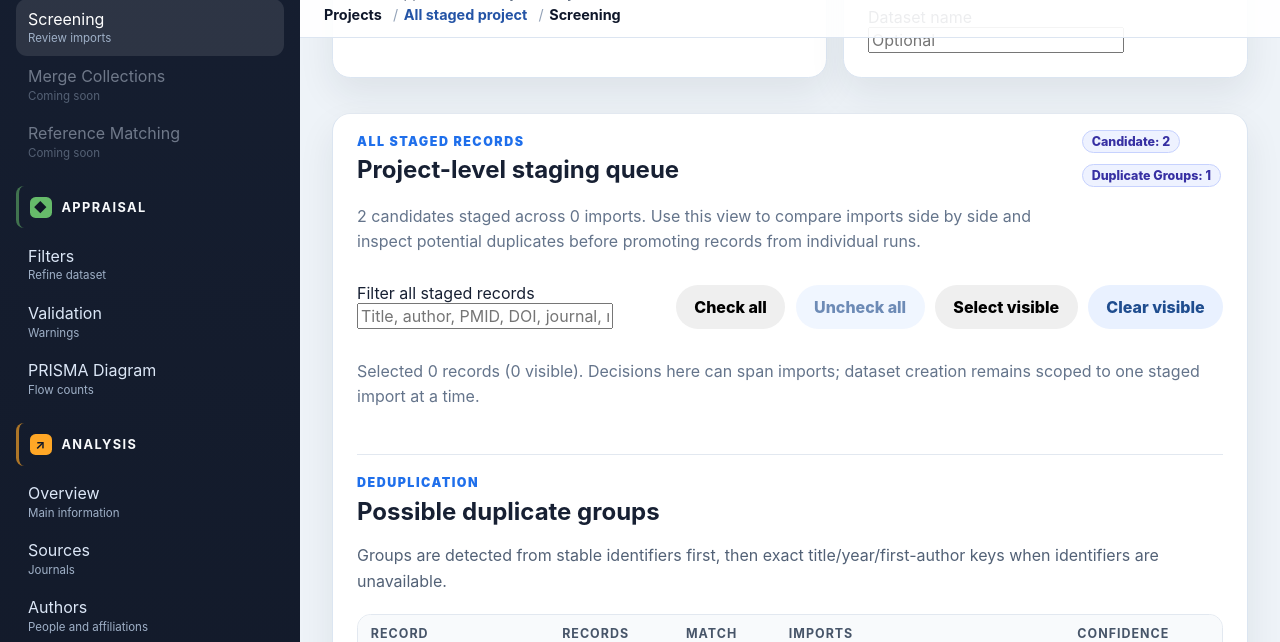
remote source import › shows all staged records together with duplicate groups
(page scrolled)
Expected: the heading "Project-level staging queue" is shown, 357,155 -> 679,184
Click the button "Select visible": (1006, 308) 935,286 -> 1078,330
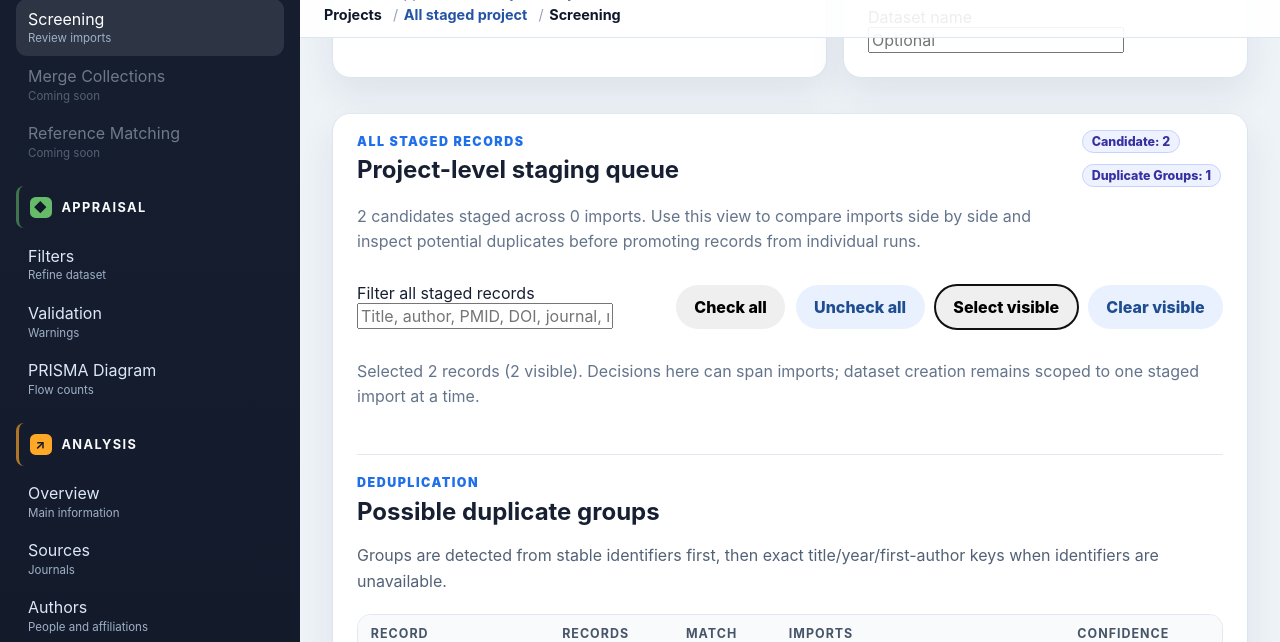
Expected: the text "Selected 2 records" is shown, 357,359 -> 1223,409
Click the button "Uncheck all": (860, 308) 796,286 -> 925,330
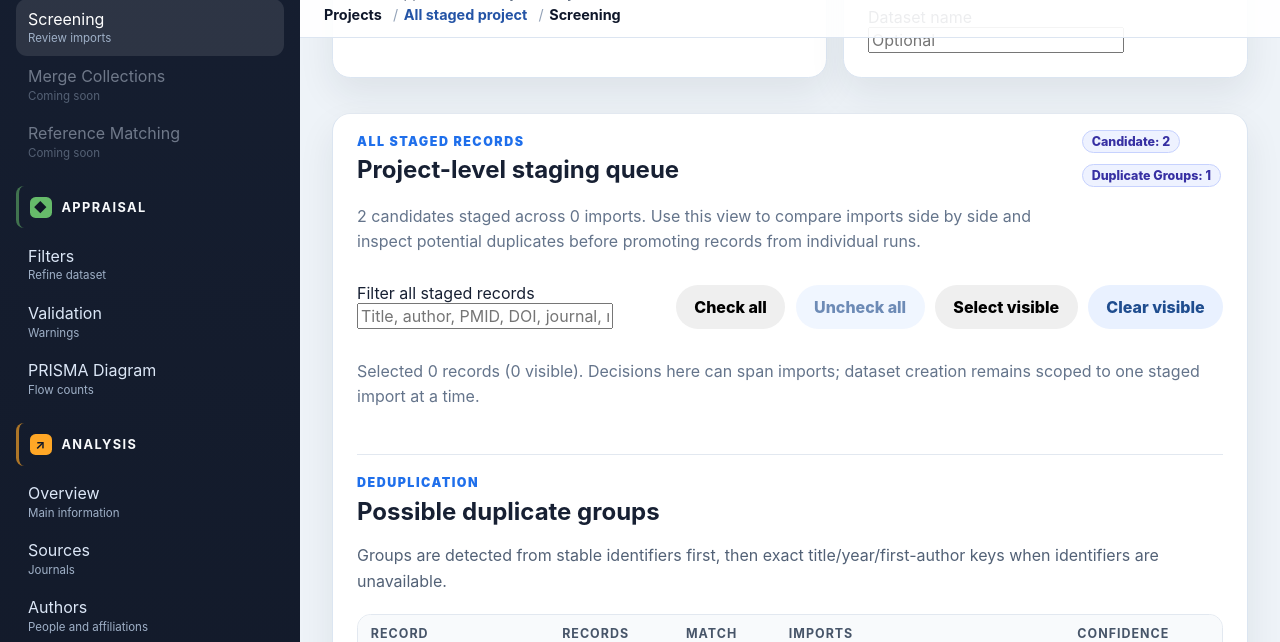
Expected: the text "Selected 0 records" is shown, 357,359 -> 1223,409
Click the button "Check all": (730, 308) 676,286 -> 785,330
(page scrolled)
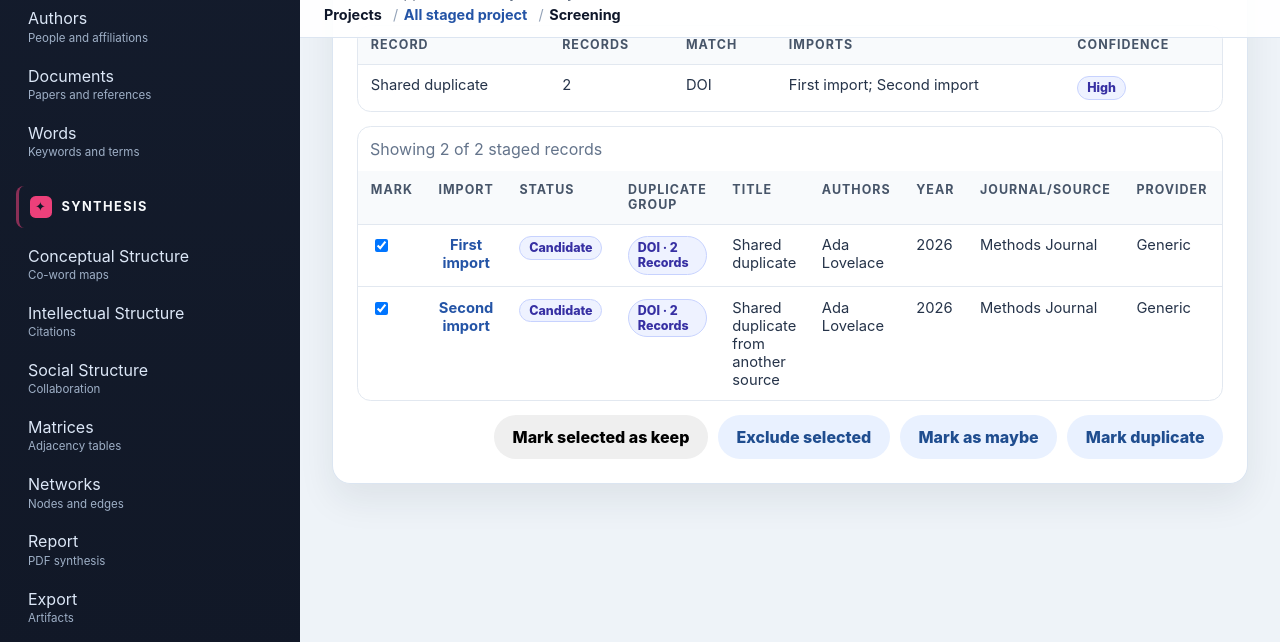
Click the button "Exclude selected": (804, 437) 718,415 -> 890,459
(page scrolled)
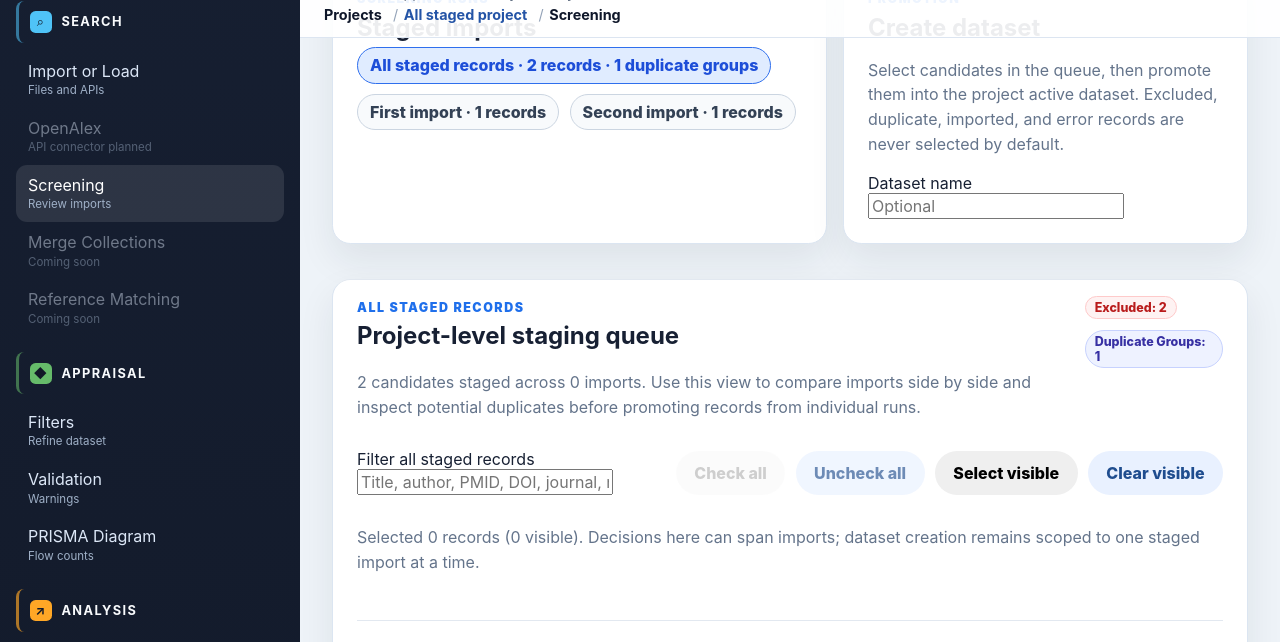
Expected: the text "excluded: 2" is shown, 1085,296 -> 1177,319
